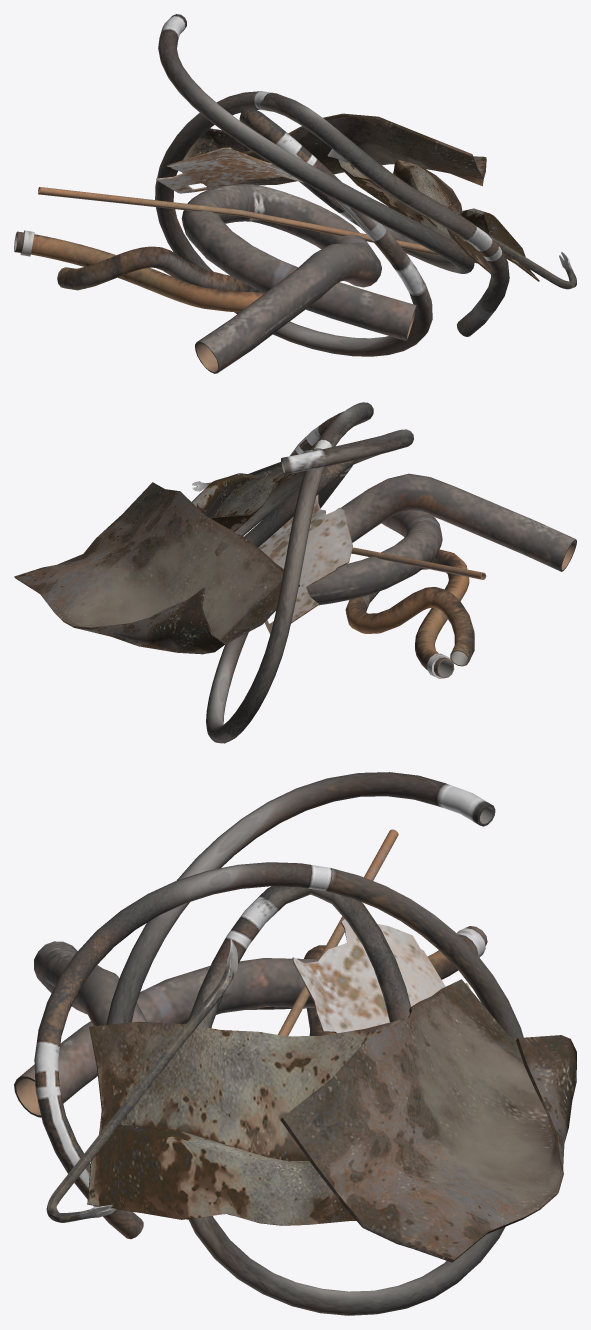
The model's file is MOD_Junkparts_07.fbx.
3 views of the same model, one above another, from view 1: azimuth 30°, elevation 25°; view 2: azimuth 150°, elevation 25°; view 3: azimuth 270°, elevation 25° (orthographic). The views are drawn at different scales.
Visible parts, largest first — view 1: MOD_Junkparts_07; view 2: MOD_Junkparts_07; view 3: MOD_Junkparts_07.
Part boxes in pixels (x1,y1,x2,y2): MOD_Junkparts_07: (14,14,576,373); MOD_Junkparts_07: (14,402,576,743); MOD_Junkparts_07: (14,772,576,1315).
Size of the model in its own units: 188 by 129 by 149.
Materials: 2 (2 with a texture image).
